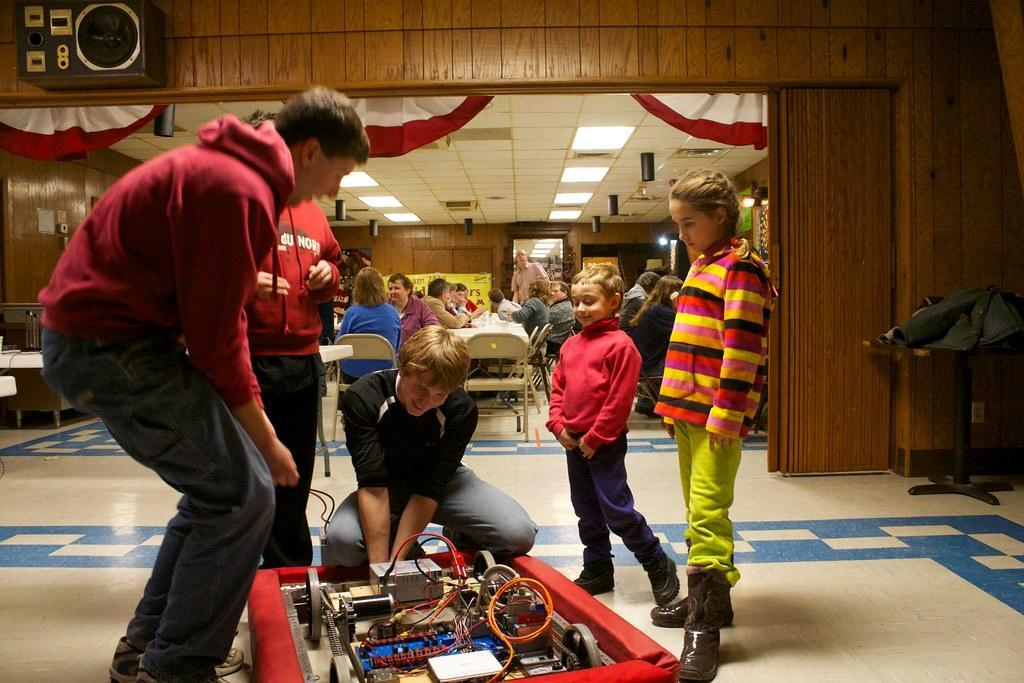robot: (222, 533, 690, 683)
